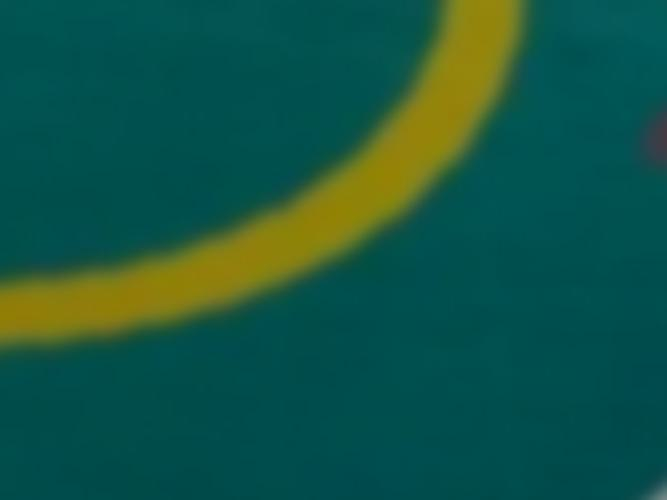Apron: (1, 1, 546, 351)
